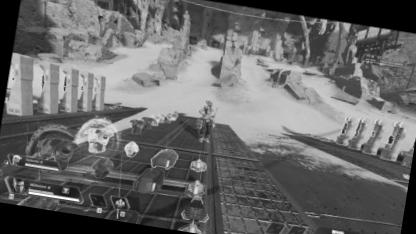Target: (193, 98, 220, 144)
